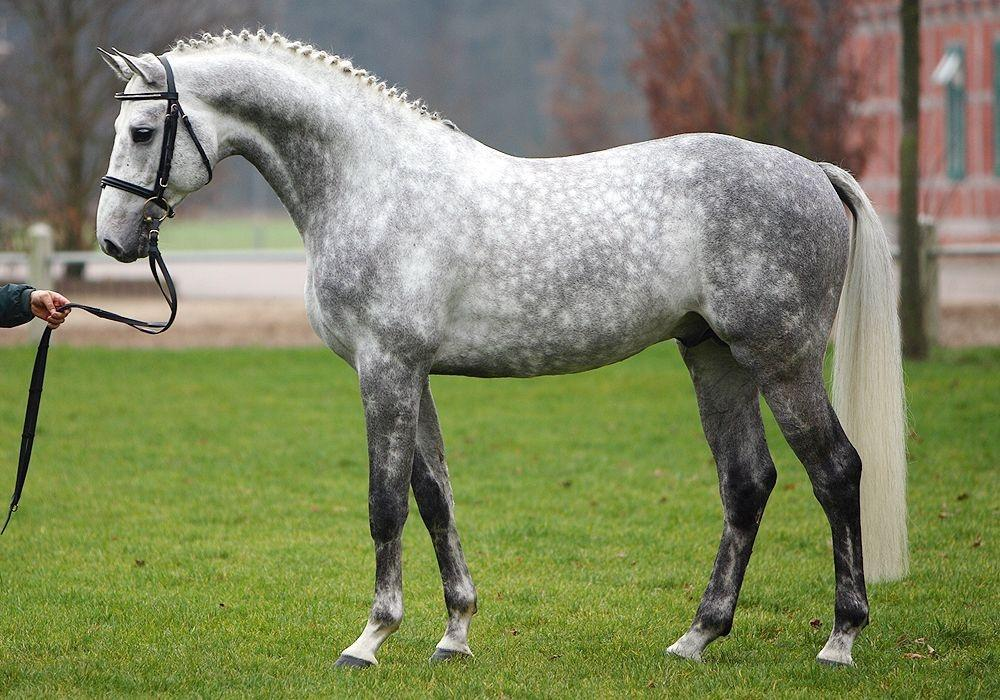horse: (94, 24, 911, 672)
